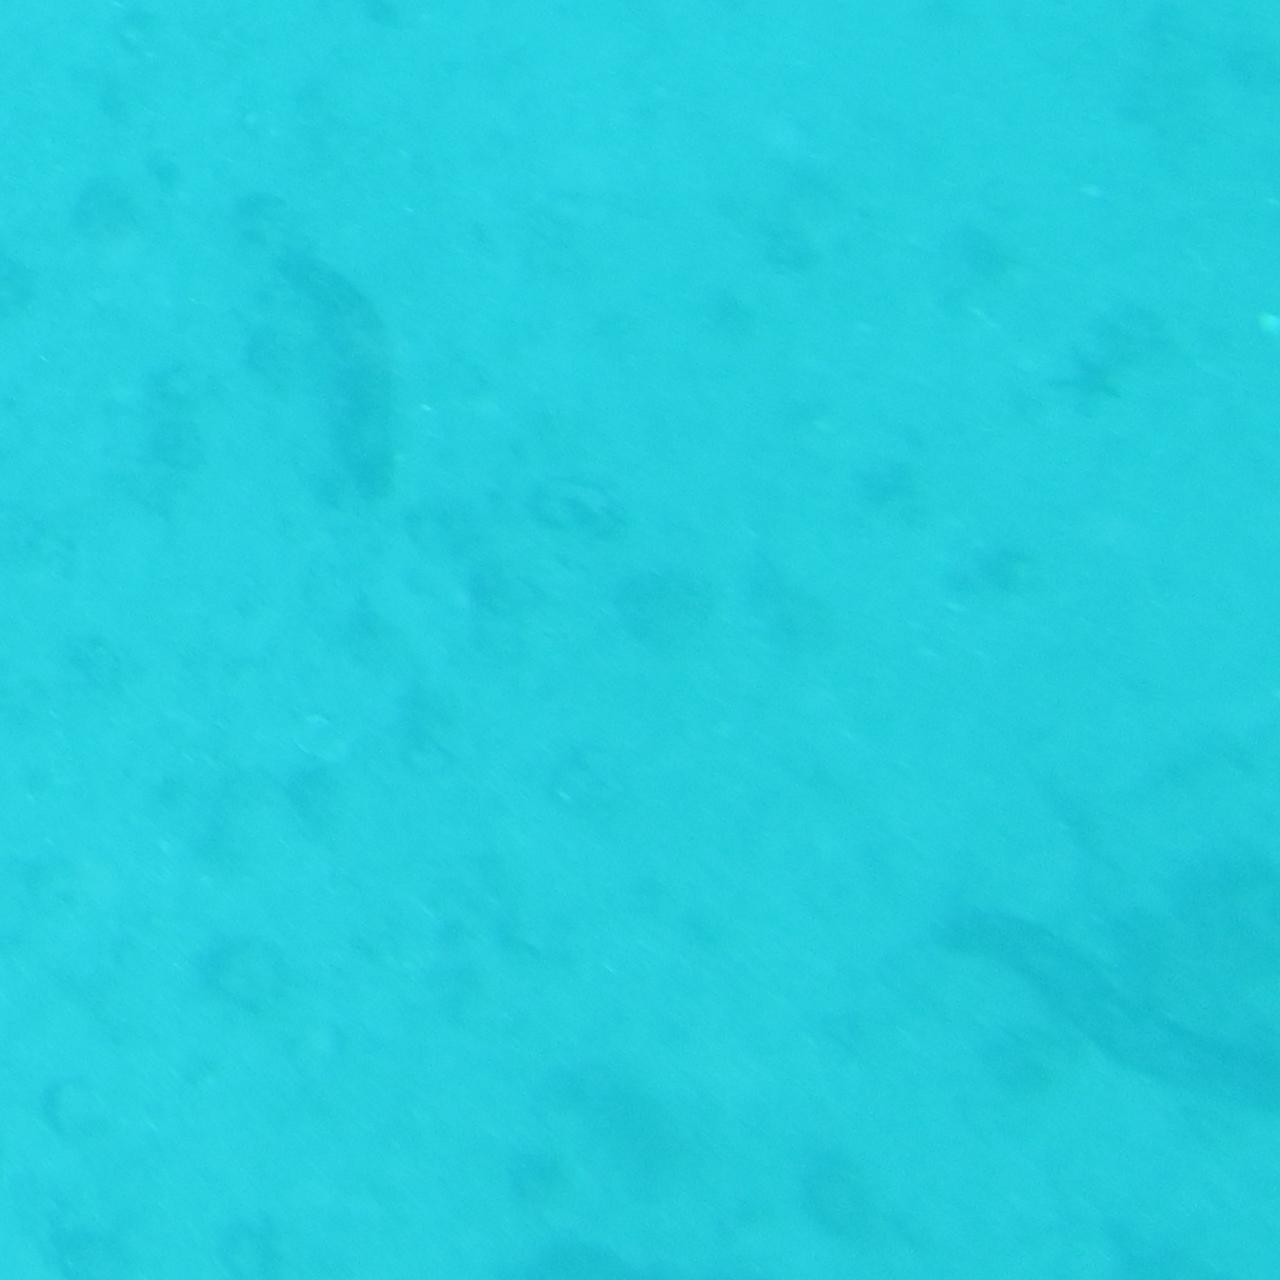Holothuria tubulosa: (931, 890, 1280, 1096), (252, 226, 417, 516)
